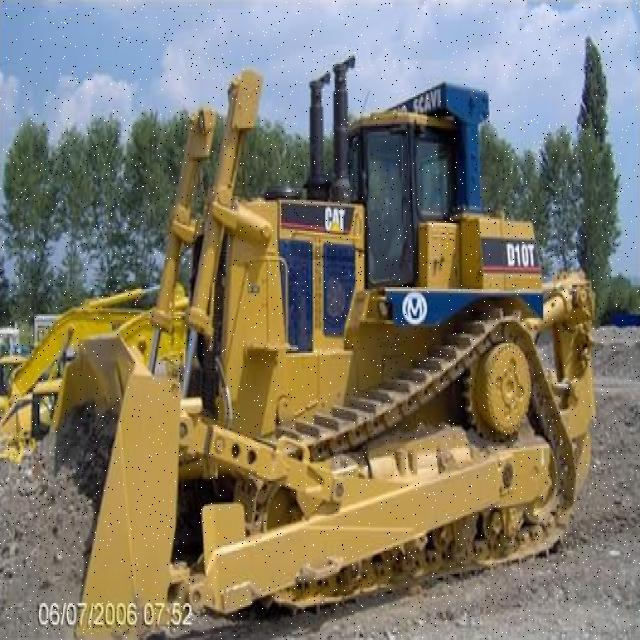Bulldozer: (36, 37, 608, 603)
